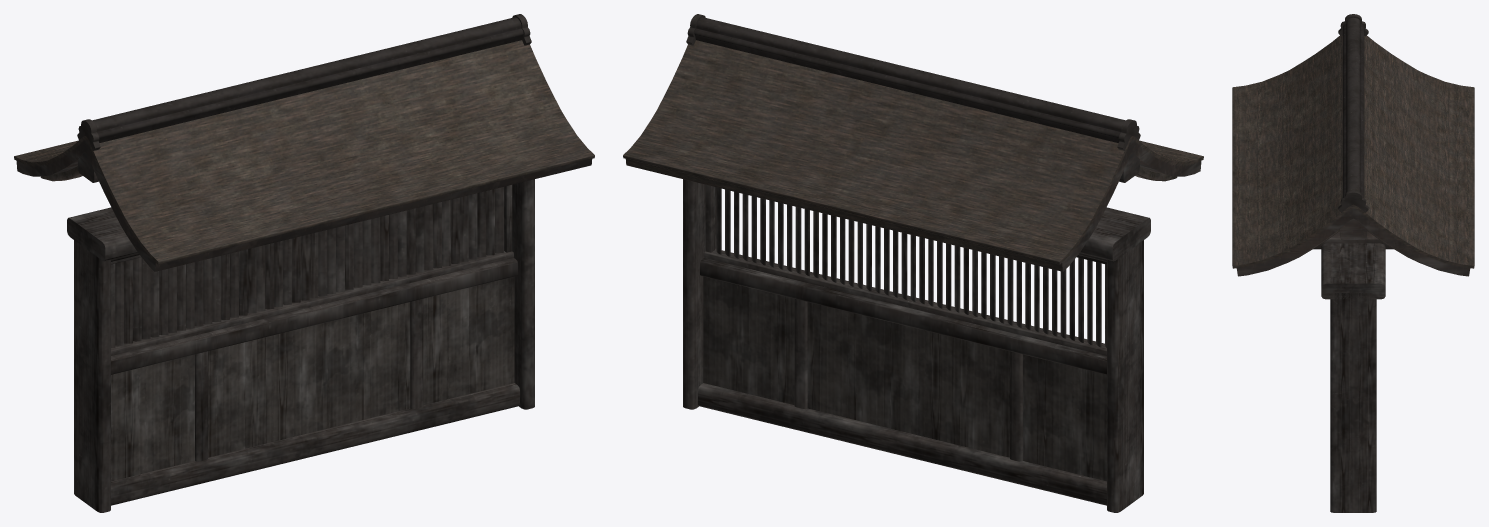
The model's file is Fence.fbx.
The picture shows the model from 3 angles, left to right: view 1: azimuth 30°, elevation 25°; view 2: azimuth 150°, elevation 25°; view 3: azimuth 270°, elevation 25°; orthographic projection. The views are drawn at different scales.
Parts seen in each view (by area): view 1: Fence; view 2: Fence; view 3: Fence.
Part boxes in pixels (left/top/right/bottom): Fence: left=14, top=14, right=594, bottom=512; Fence: left=623, top=14, right=1203, bottom=512; Fence: left=1232, top=14, right=1474, bottom=512.
Bounding box in the file's own units: 3 × 2.51 × 1.72.
